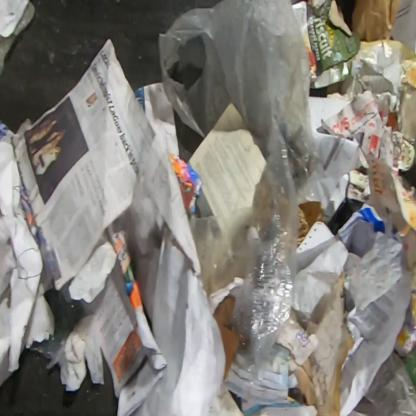cardboard: (69, 210, 170, 415), (291, 0, 361, 90), (212, 293, 240, 381), (350, 0, 406, 43), (298, 202, 325, 248)
soft_plastic: (158, 0, 326, 385), (188, 206, 261, 370), (27, 227, 86, 386), (352, 350, 416, 416), (0, 0, 39, 79)
